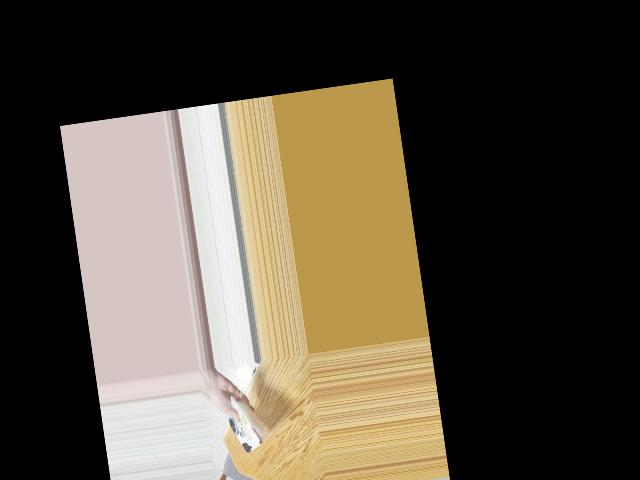cheese: (217, 400, 268, 453)
